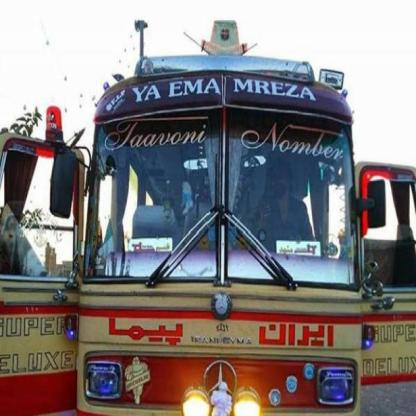Bus: (0, 0, 414, 416)
